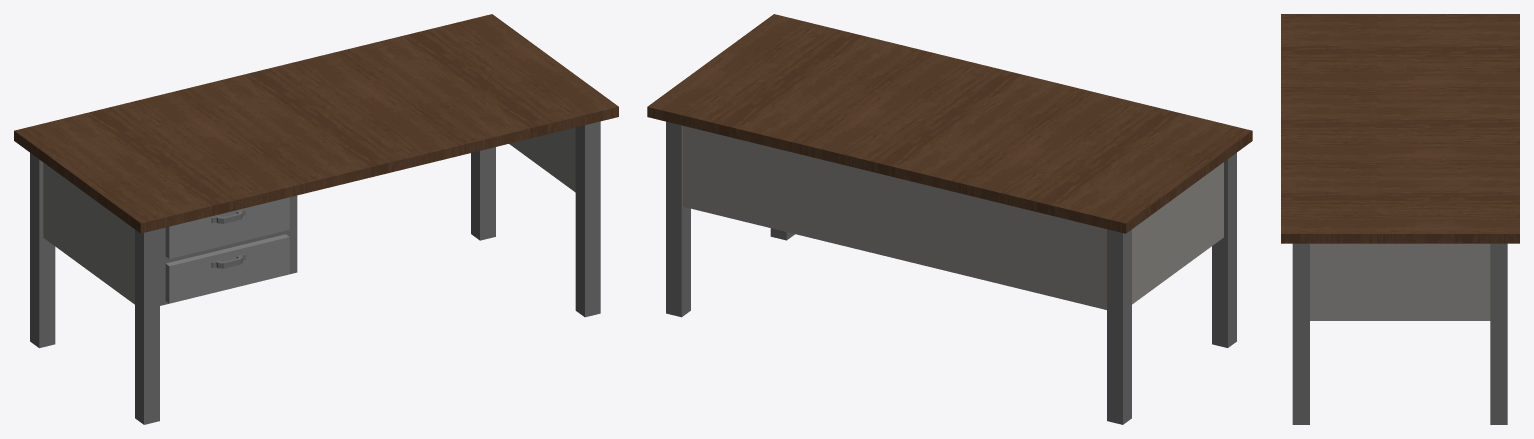
File: desk.glb
3 views of the same model, side by side, from view 1: azimuth 30°, elevation 25°; view 2: azimuth 150°, elevation 25°; view 3: azimuth 270°, elevation 25° (orthographic). The views are drawn at different scales.
Parts seen in each view (by area): view 1: Cube.016; view 2: Cube.016; view 3: Cube.016.
Part boxes in pixels (box(x1,y1,x2,y2)): Cube.016: box(14, 14, 618, 424); Cube.016: box(647, 14, 1252, 424); Cube.016: box(1281, 14, 1519, 424).
Size of the model in its own units: 2.54 by 1.06 by 1.17.
4 materials, 1 textured.
